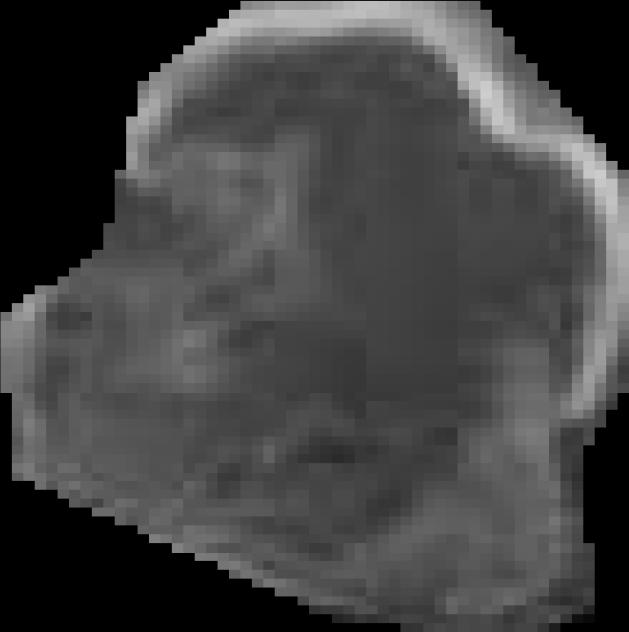tumor_moderate_chance: (0, 1, 629, 632)
